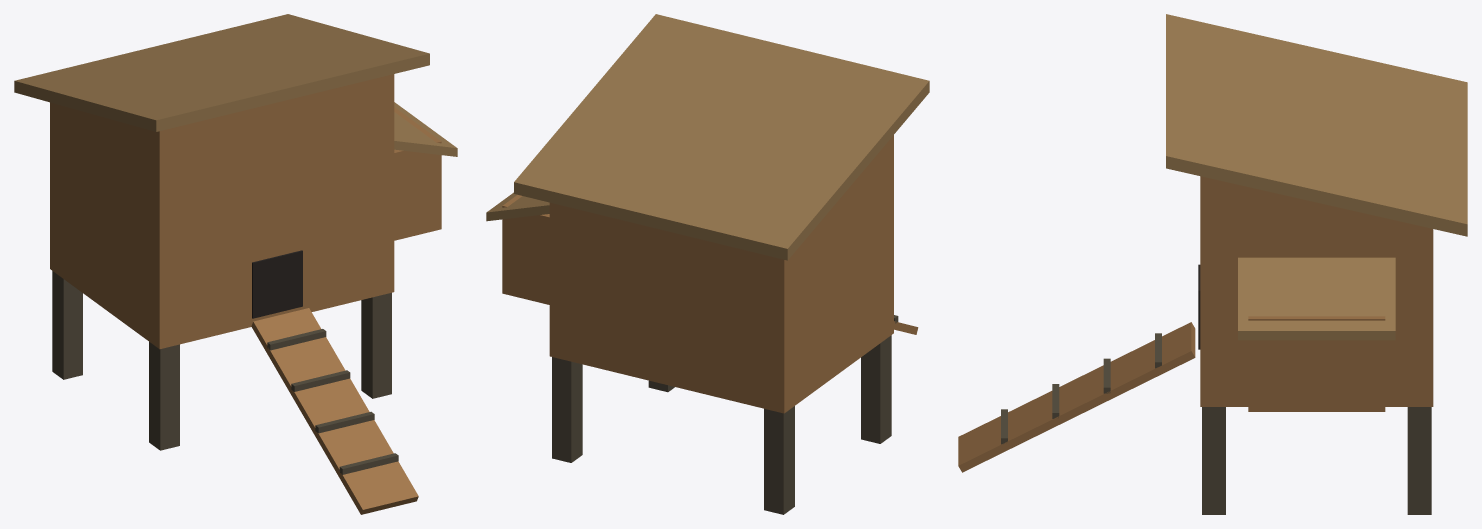
File: ChickenCoop.fbx
3 views of the same model, side by side, from view 1: azimuth 30°, elevation 25°; view 2: azimuth 150°, elevation 25°; view 3: azimuth 270°, elevation 25° (orthographic). The views are drawn at different scales.
Visible parts, largest first — view 1: ChickenCoop; view 2: ChickenCoop; view 3: ChickenCoop.
Part boxes in pixels (bbox=[...]): ChickenCoop: bbox=[14, 14, 457, 514]; ChickenCoop: bbox=[486, 14, 929, 514]; ChickenCoop: bbox=[958, 14, 1467, 514].
Bounding box in the file's own units: 1.2 × 1.2 × 1.49.
